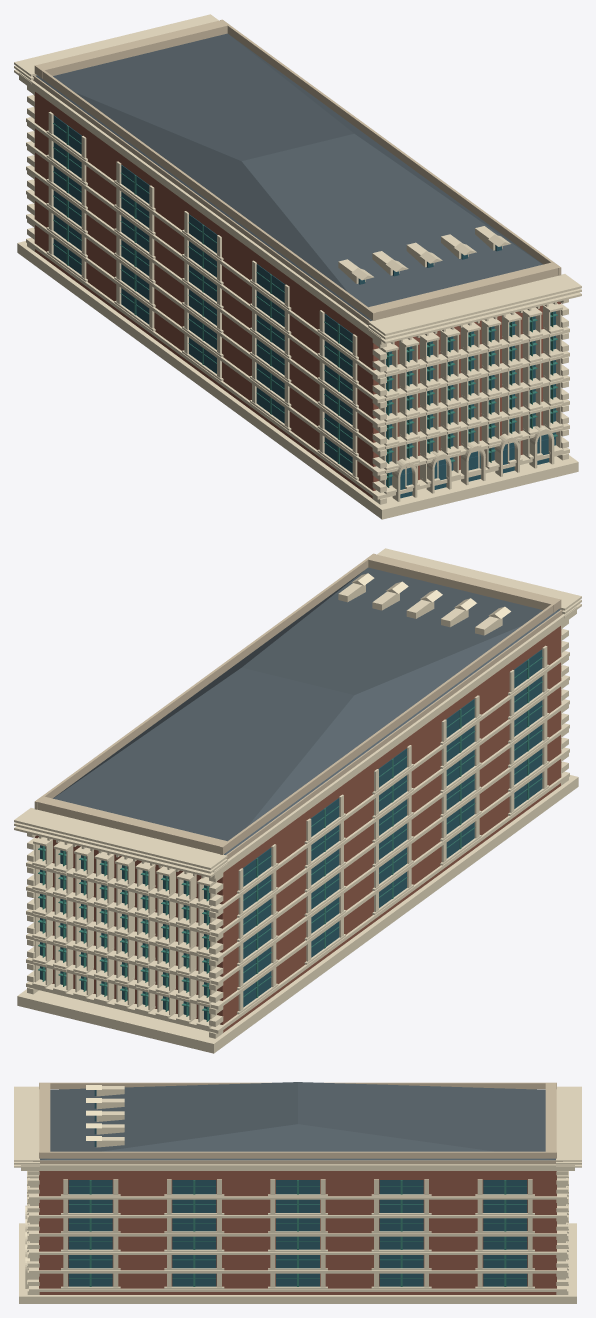
Rendered from palace-hotel.glb.
3 views of the same model, one above another, from view 1: azimuth 30°, elevation 25°; view 2: azimuth 150°, elevation 25°; view 3: azimuth 270°, elevation 25° (orthographic). The views are drawn at different scales.
Visible parts, largest first — view 1: palace-hotel; view 2: palace-hotel; view 3: palace-hotel.
Boxes of the visible parts, <box> form: palace-hotel: <box>14,14,581,519</box>; palace-hotel: <box>14,548,581,1053</box>; palace-hotel: <box>14,1082,581,1303</box>.
Size of the model in its own units: 26.07 by 27.2 by 85.27.
